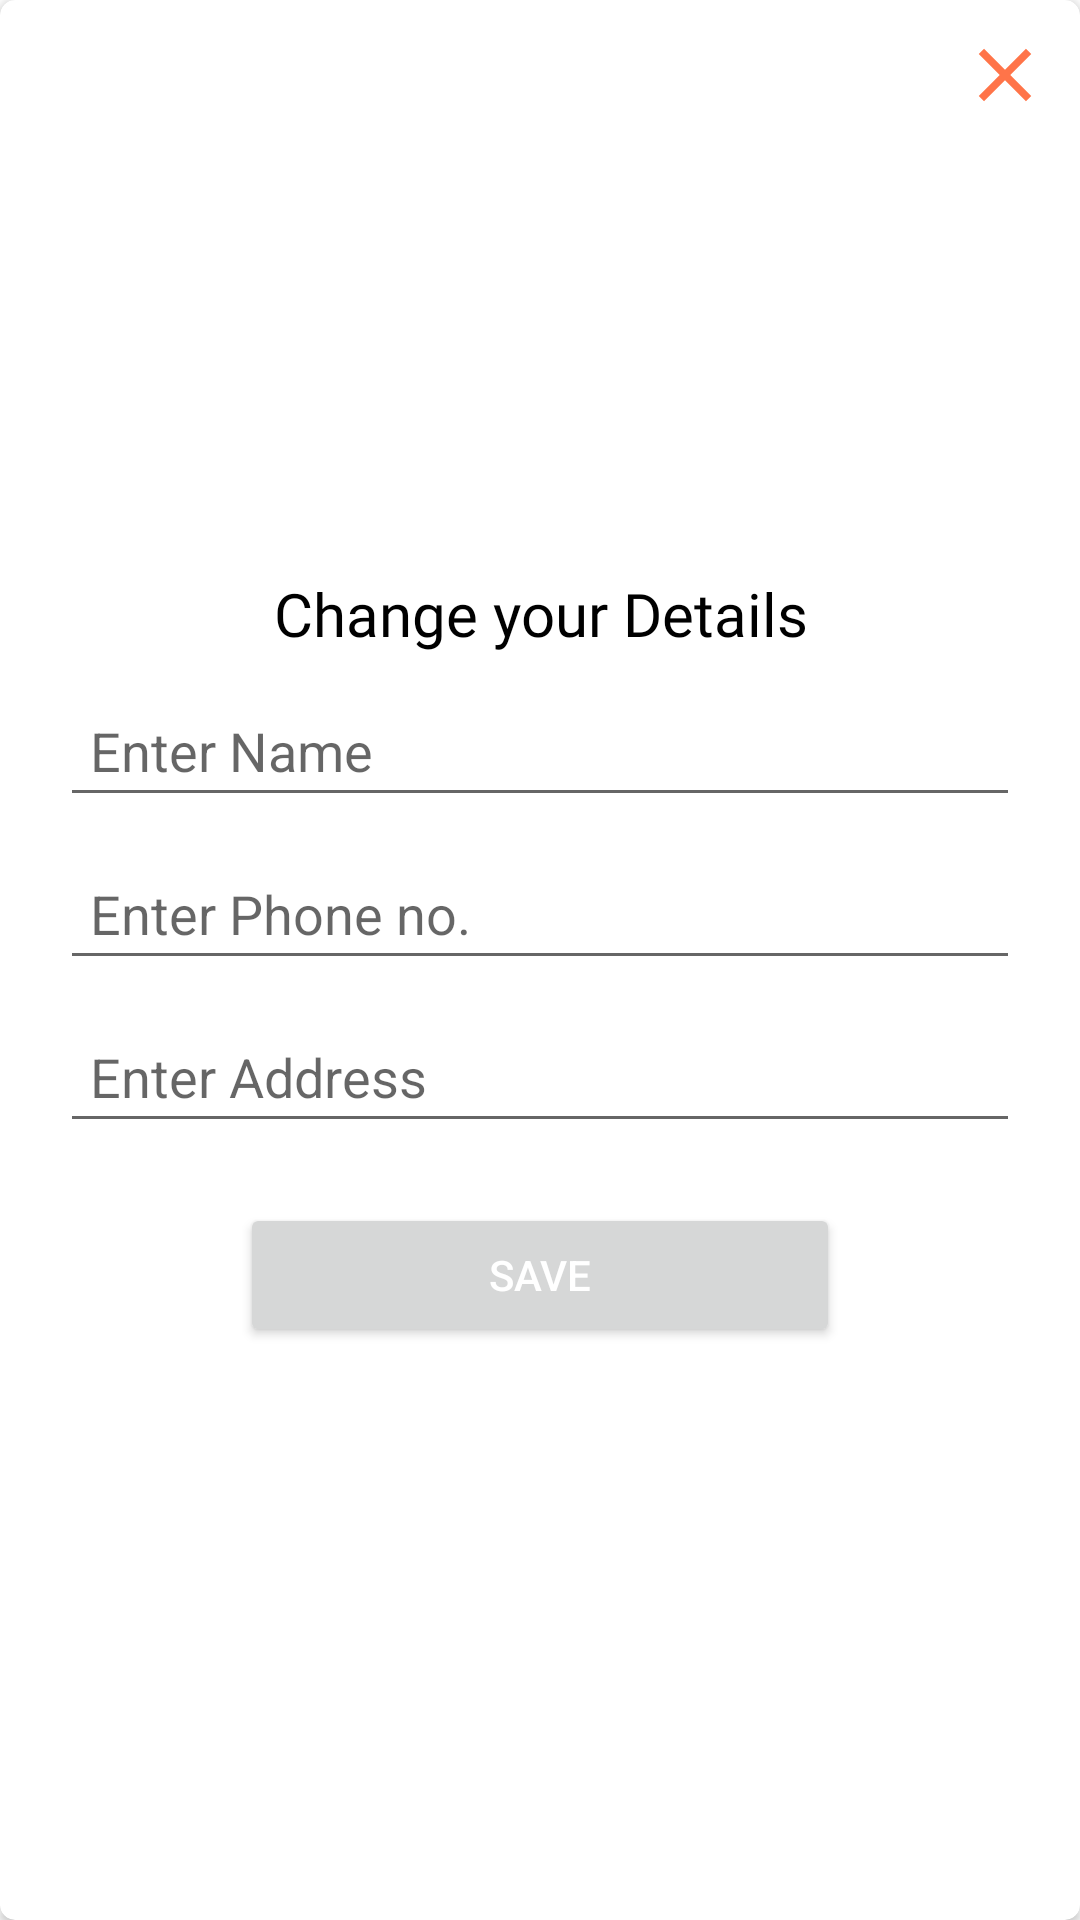

Locate icon controls on the screen. Image size 1080w x 1920h, boxes as (x1, y1, x2, y2).
close: (979, 49, 1031, 101)
